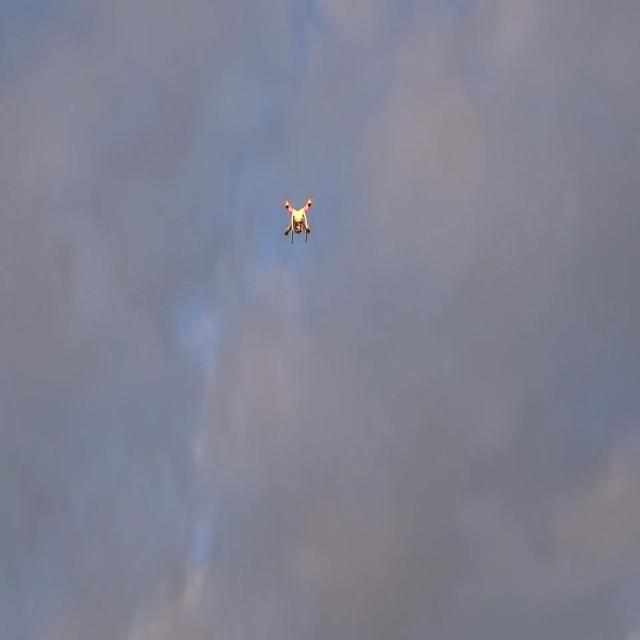drone: (282, 193, 314, 246)
